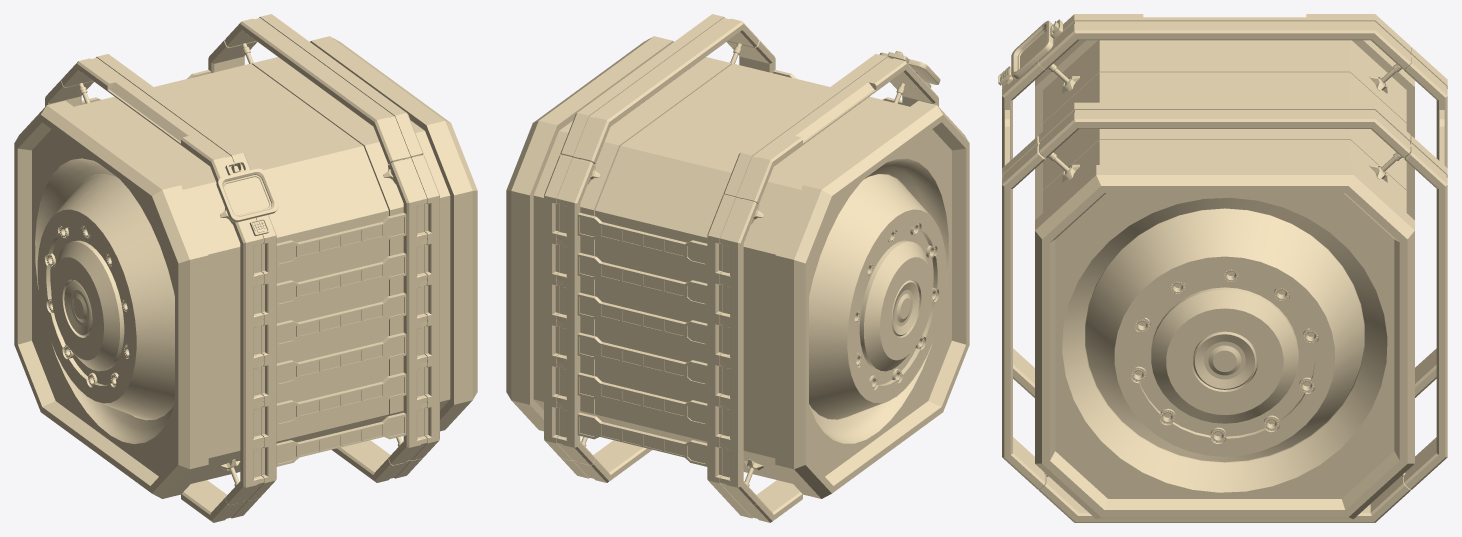
File: cargo_box2.fbx
3 views of the same model, side by side, from view 1: azimuth 30°, elevation 25°; view 2: azimuth 150°, elevation 25°; view 3: azimuth 270°, elevation 25° (orthographic). The views are drawn at different scales.
Visible parts, largest first — view 1: Cube.014, Cylinder.002, Cube.021, Cube.022; view 2: Cube.014, Cylinder.002, Cube.021, Cube.022; view 3: Cube.014, Cube.021, Cylinder.002, Cube.022.
Part boxes in pixels (bbox=[...]): Cube.014: bbox=[14, 36, 477, 498]; Cylinder.002: bbox=[45, 14, 439, 522]; Cube.021: bbox=[37, 174, 174, 419]; Cube.022: bbox=[46, 225, 129, 386]; Cube.014: bbox=[506, 36, 969, 498]; Cylinder.002: bbox=[544, 14, 940, 522]; Cube.021: bbox=[809, 174, 946, 419]; Cube.022: bbox=[854, 223, 937, 389]; Cube.014: bbox=[1035, 40, 1414, 519]; Cube.021: bbox=[1085, 208, 1364, 462]; Cylinder.002: bbox=[998, 14, 1447, 522]; Cube.022: bbox=[1131, 269, 1318, 442].
Bounding box in the file's own units: 169 × 174 × 175.
